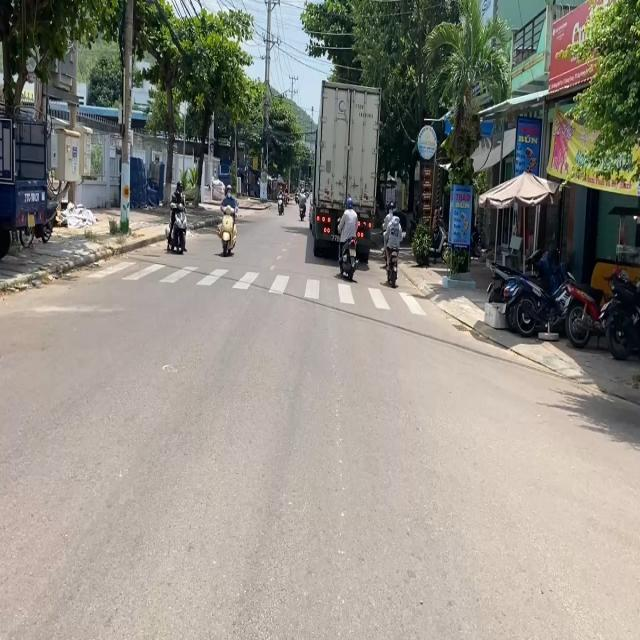walk-crossing: (72, 258, 426, 320)
